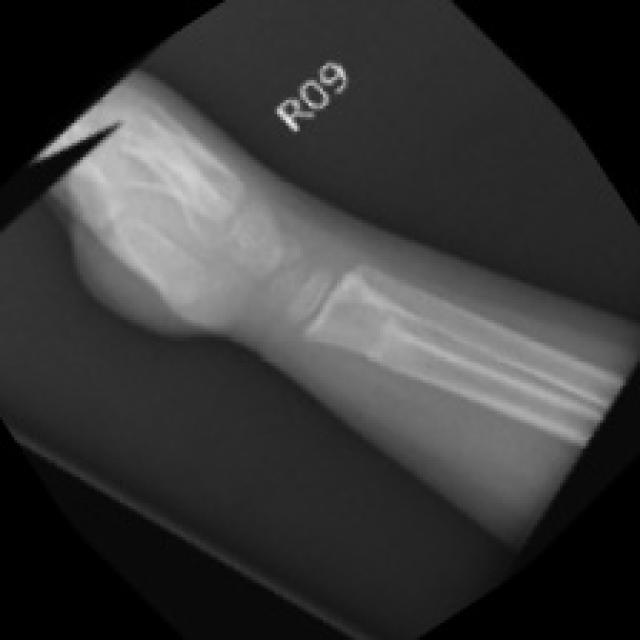fracture: (338, 281, 508, 408)
